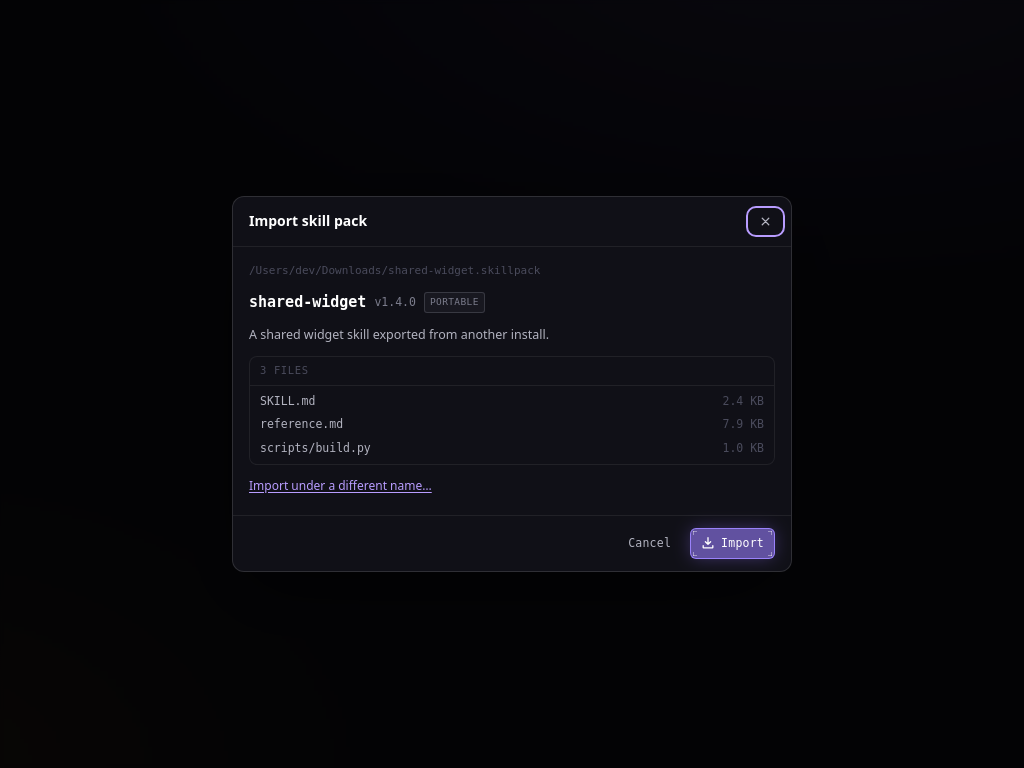
Test case: ImportSkillDialog › an optional (non-collision) override must still be a legal slug
Click the button "Import under a different name…". click: coordinates (340, 486)
box: [249,477,432,495]
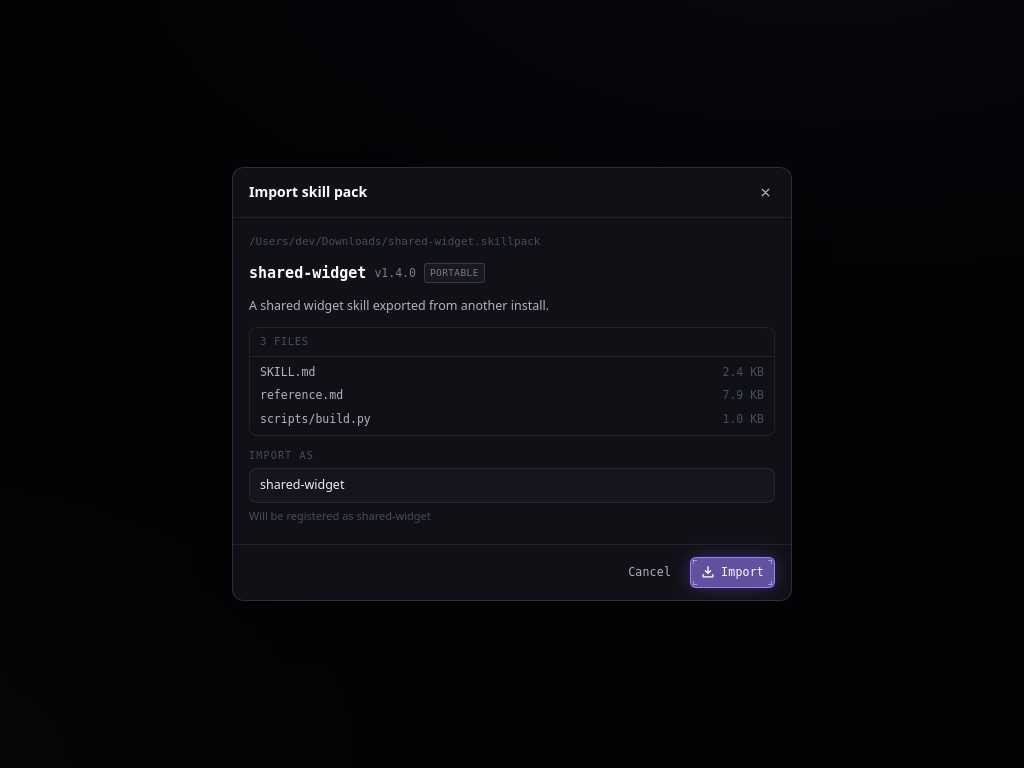
Replace the text in the field named "Import as name" with "NOPE_Caps". click: coordinates (512, 485)
box: [249,468,775,503]
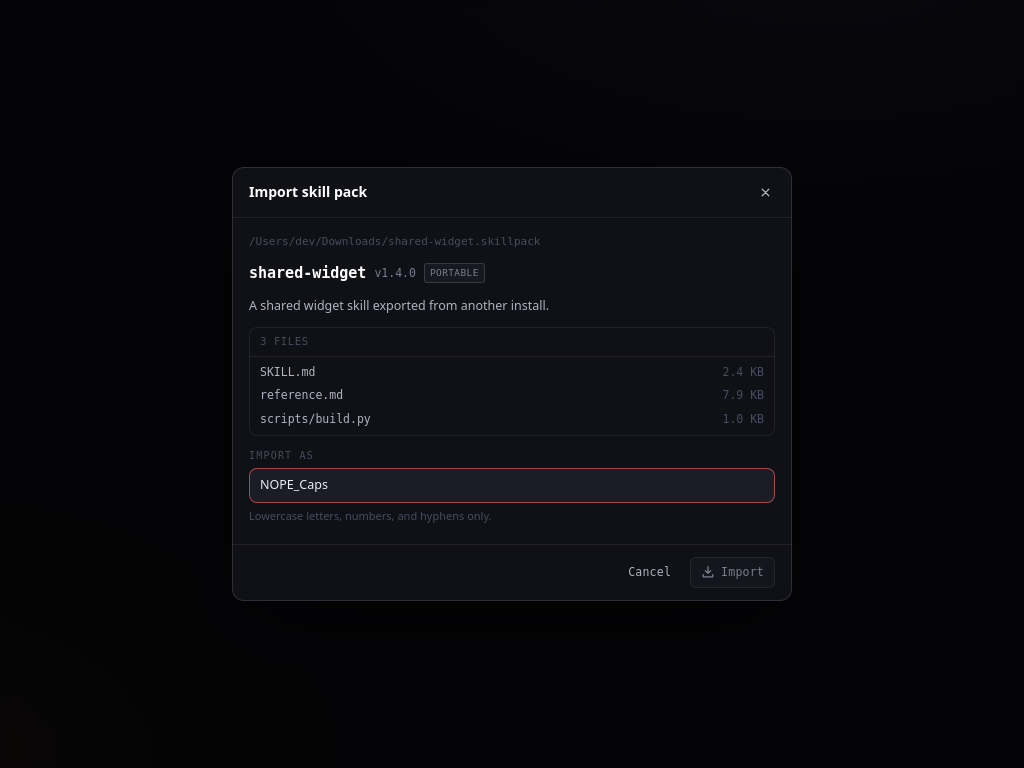
Now the button "Import" is disabled, box [690,557,775,588]
